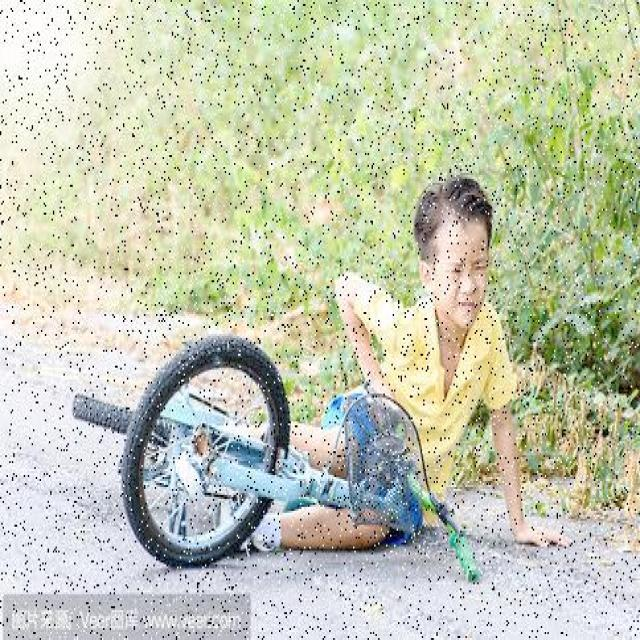fall: (210, 175, 542, 562)
